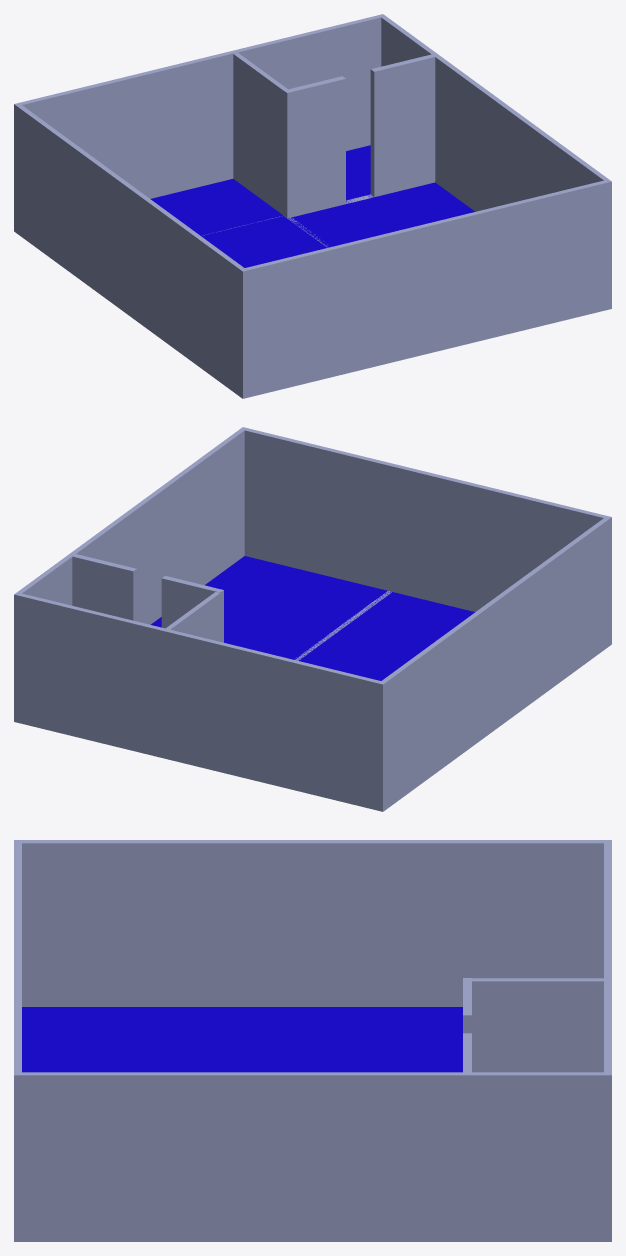
File: PM2_Office_Map_Boundary02.fbx
3 views of the same model, one above another, from view 1: azimuth 30°, elevation 25°; view 2: azimuth 150°, elevation 25°; view 3: azimuth 270°, elevation 25° (orthographic). The views are drawn at different scales.
Visible parts, largest first — view 1: Map Boundary; view 2: Map Boundary; view 3: Map Boundary.
Boxes of the visible parts, box(x1,y1,x2,y2) form: Map Boundary: box(14, 14, 611, 398); Map Boundary: box(14, 427, 611, 811); Map Boundary: box(14, 840, 611, 1241).
Bounding box in the file's own units: 3716 × 1225 × 3990.
